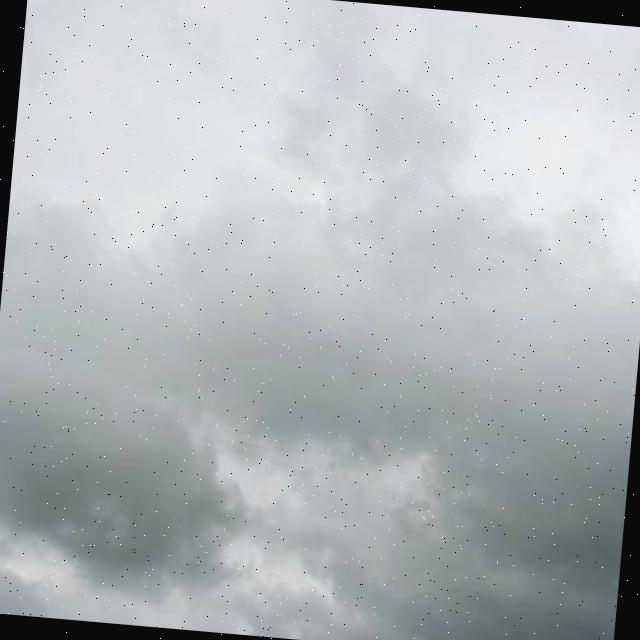As: (1, 20, 640, 640)
